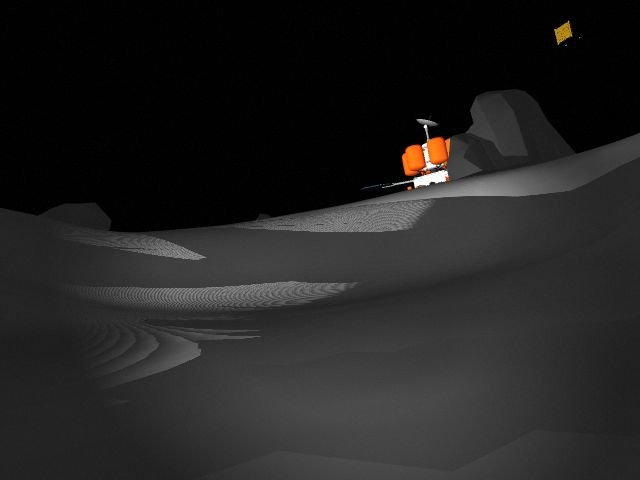cubesat: (549, 16, 598, 51)
